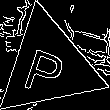P_N: (24, 36, 74, 96)
